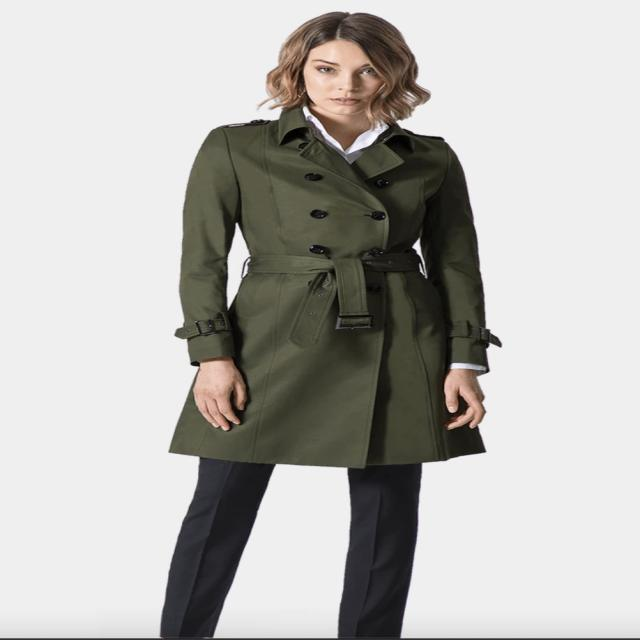coat: (159, 100, 499, 471)
short sleeve shirt: (298, 103, 390, 169)
trousers: (158, 446, 425, 640)
